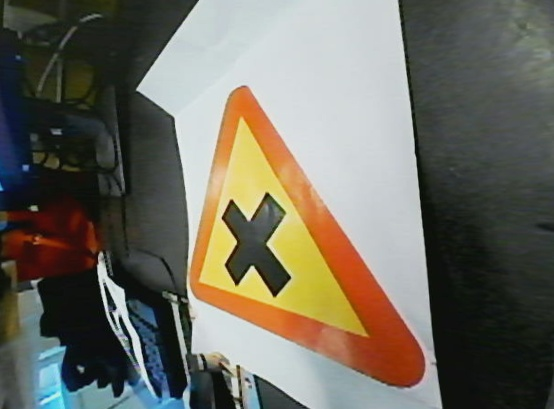junction: (175, 84, 431, 389)
